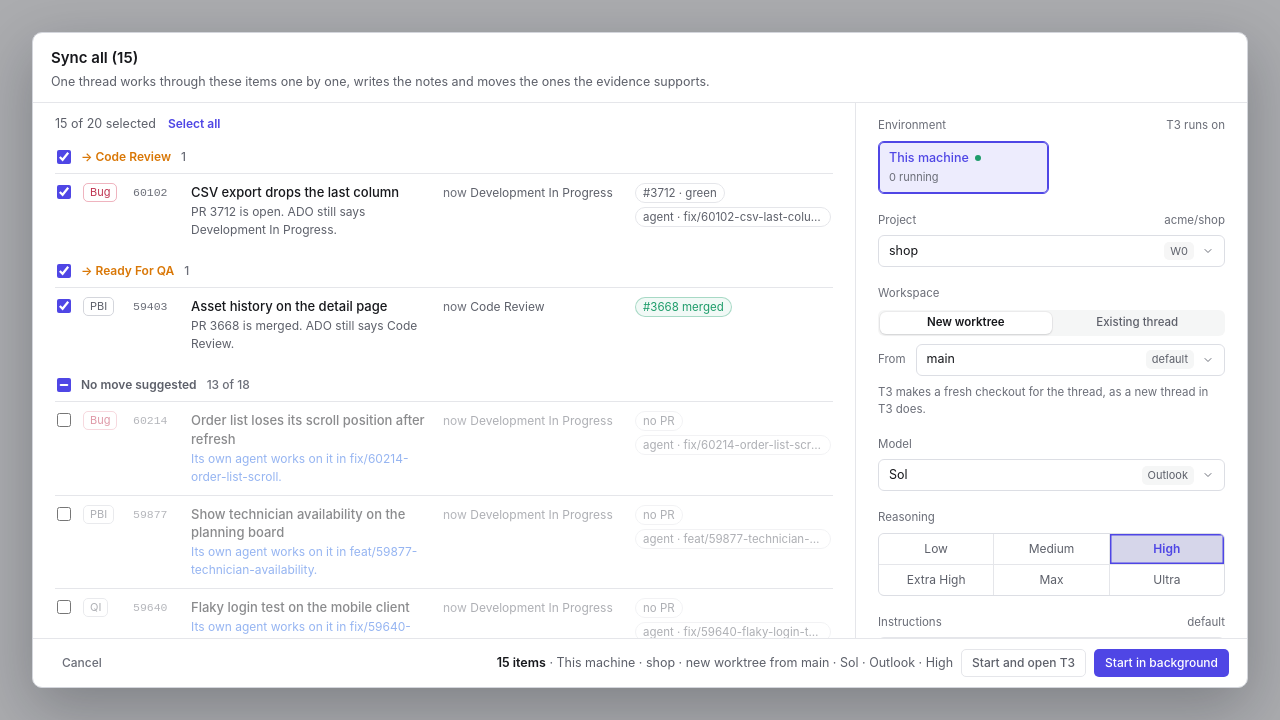
Scenario: RunSheet › picks a model by account, and its Esc leaves the sheet open
This screenshot has width=1280, height=720.
Click the button with aria-label "Model" at {"x": 1168, "y": 475}, box [878,459,1225,491]
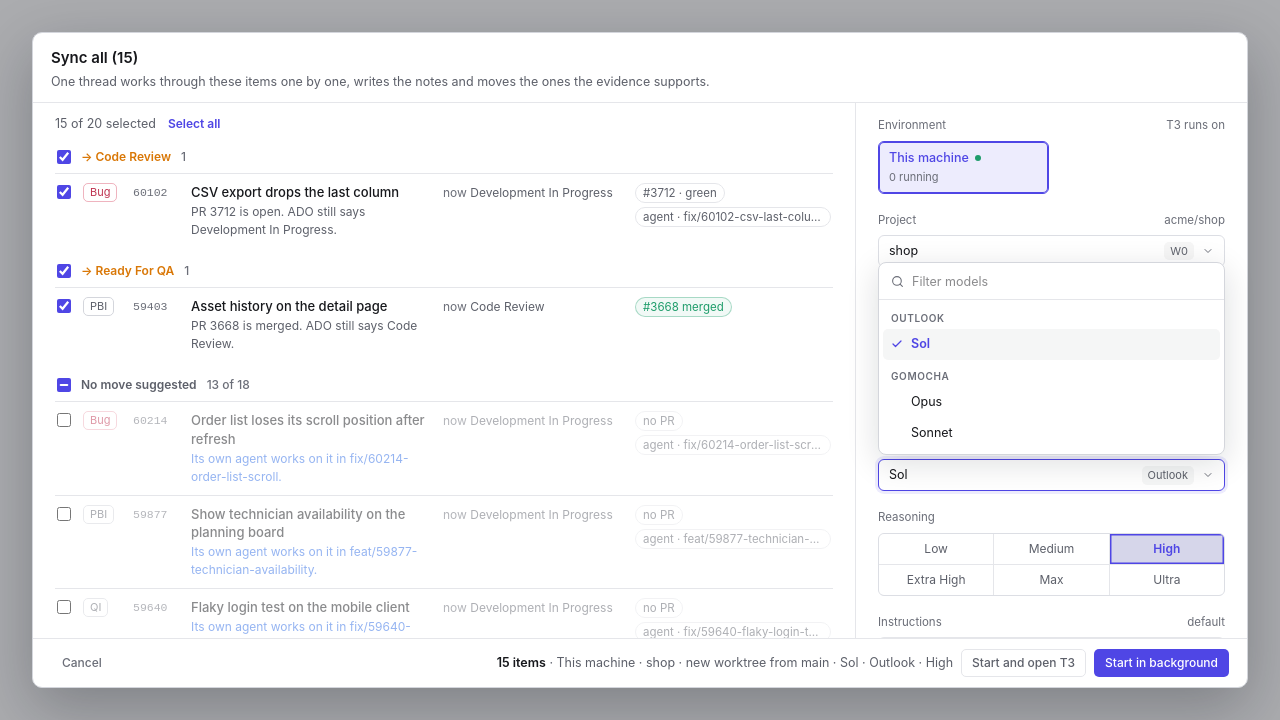
Press Escape in the dropdown labelled "Filter model", box [912,263,1212,299]
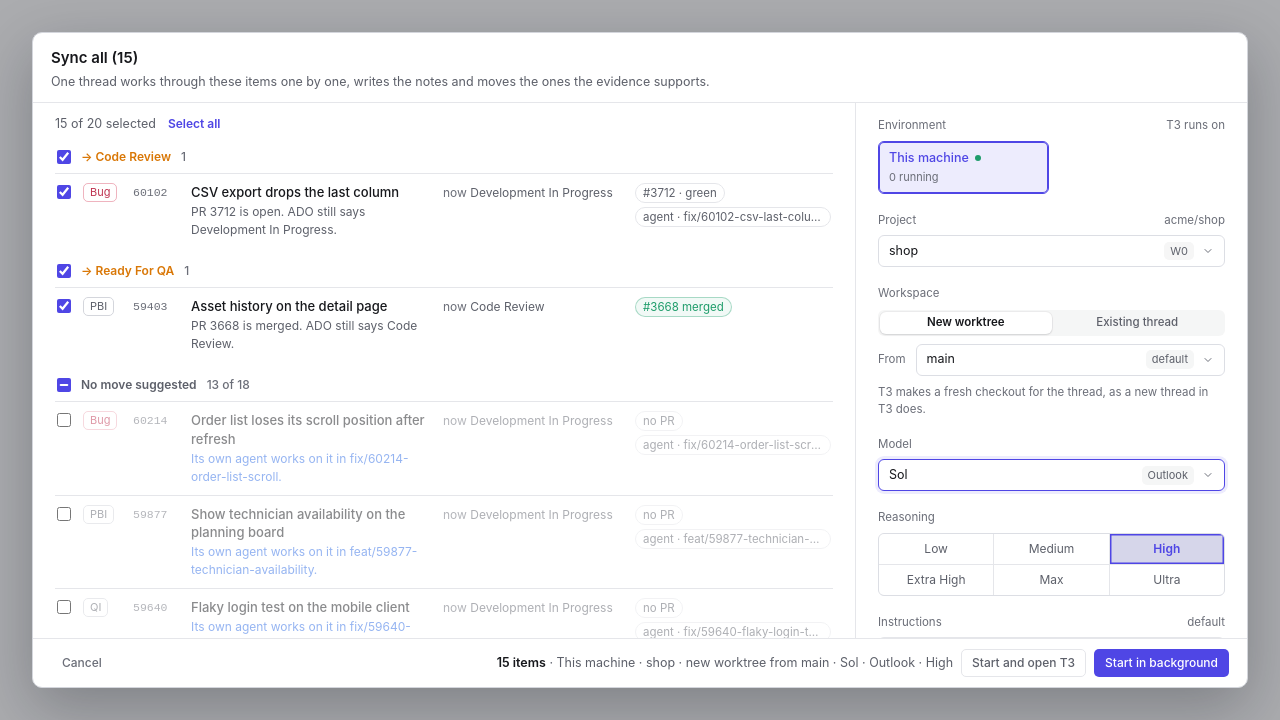
Now the list is gone
Click the button with aria-label "Model" at {"x": 1168, "y": 475}, box [878,459,1225,491]
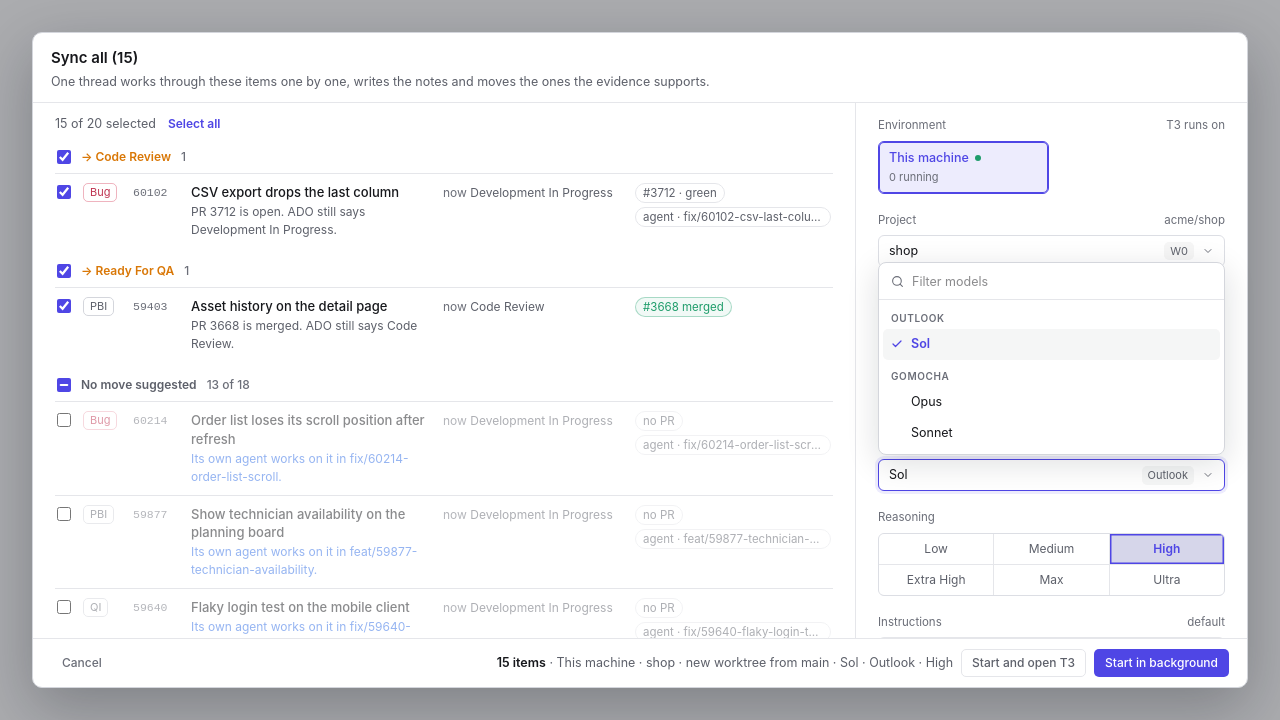
Click the option "Sonnet" at {"x": 932, "y": 432}, box [911,424,953,440]
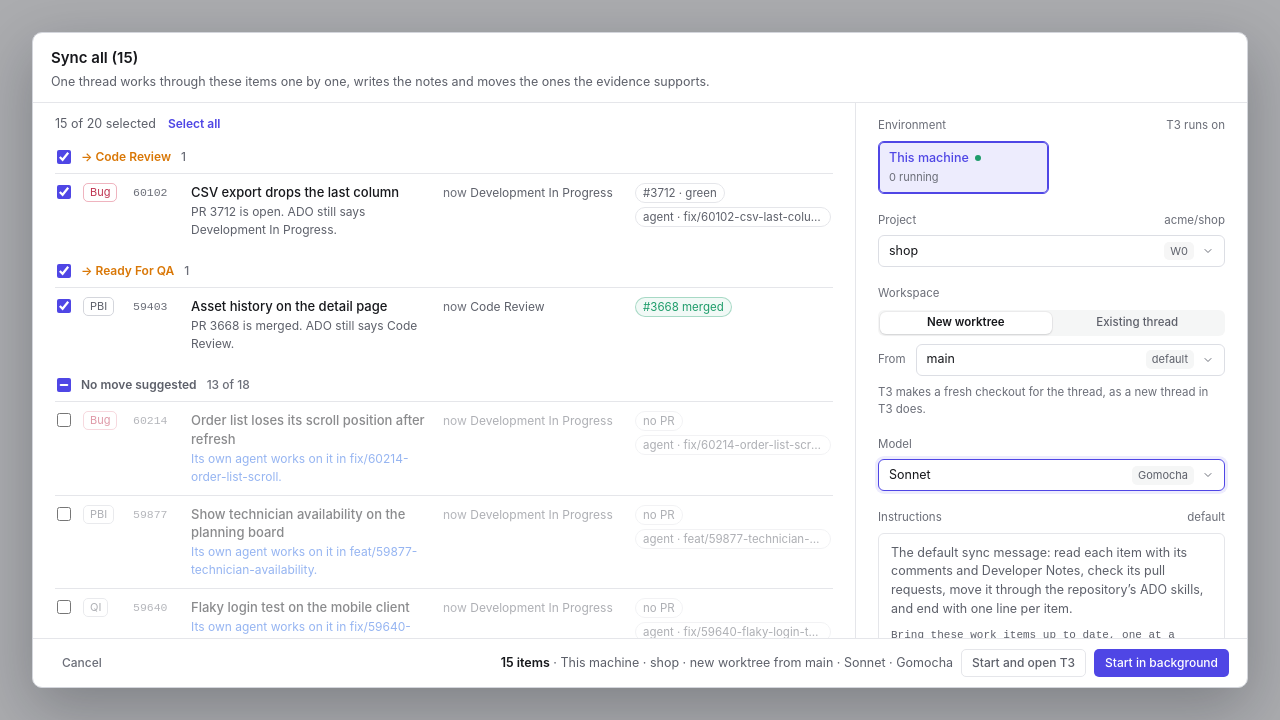
Now the button with aria-label "Model" reads "Sonnet Gomocha", box [878,459,1225,491]
